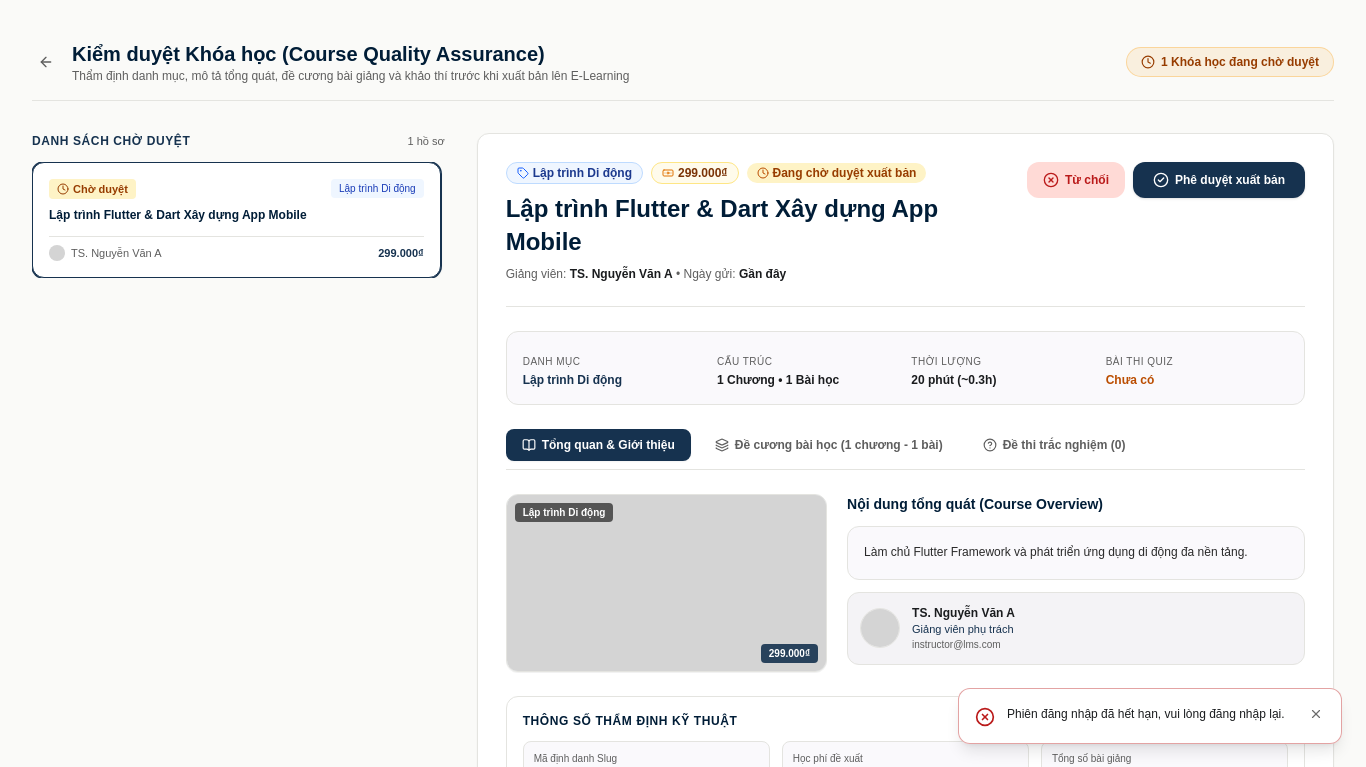
it: CourseApprovalPage - Thẩm định chi tiết khóa học chờ duyệt › chuyển đổi tab xem Đề thi trắc nghiệm và hiển thị câu hỏi kèm đáp án đúng
Expected: the heading "Lập trình Flutter & Dart Xây dựng App Mobile" below "Danh sách chờ duyệt" is shown, left=49, top=208, right=307, bottom=222
Note: Bấm sang tab Đề thi trắc nghiệm
Click the button "Đề thi trắc nghiệm (0)": click(1054, 445) left=967, top=429, right=1141, bottom=461
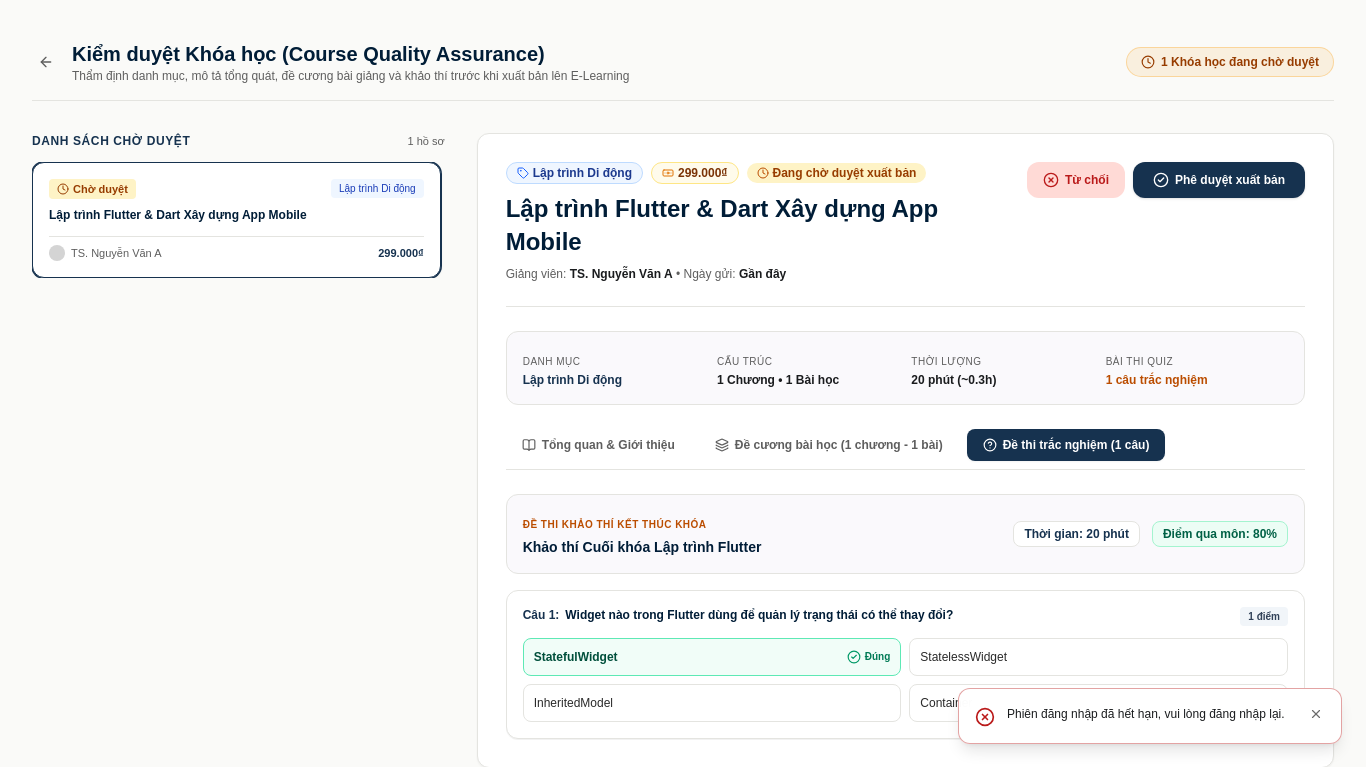
Expected: the heading "Khảo thí Cuối khóa Lập trình Flutter" is shown, left=523, top=537, right=762, bottom=557
Expected: the heading "Widget nào trong Flutter dùng để quản lý trạng thái có thể thay đổi" is shown, left=565, top=608, right=953, bottom=622
Expected: the text "StatefulWidget" is shown, left=534, top=649, right=618, bottom=665
